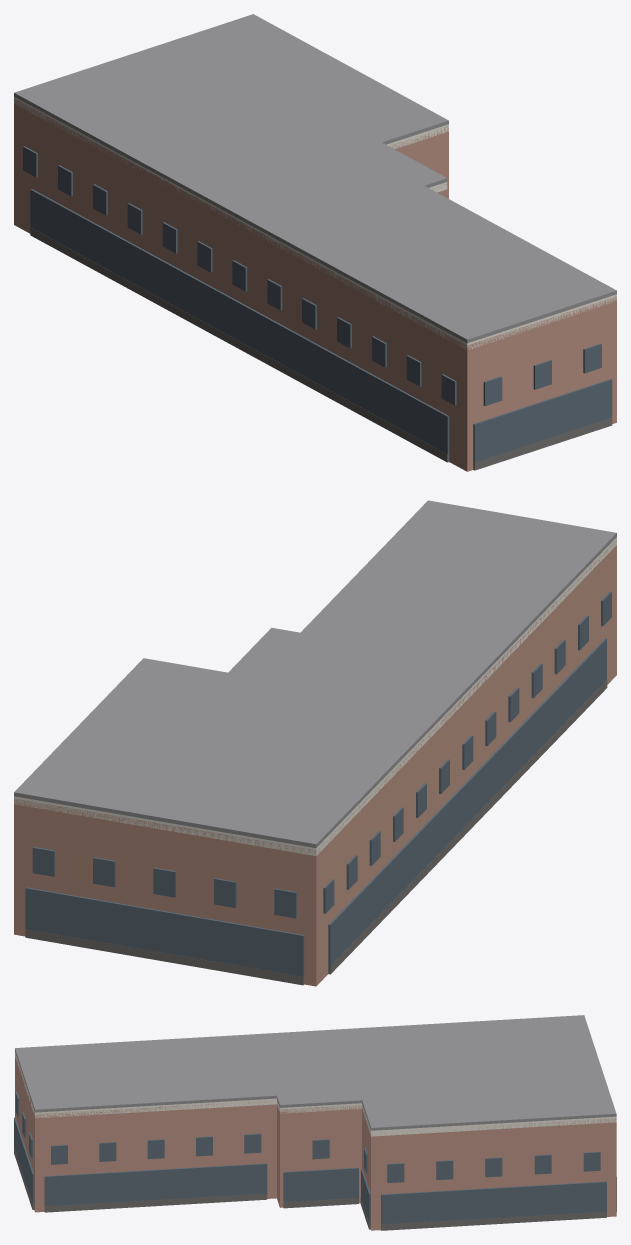
The model's file is s55_gis_248218_820836.glb.
3 renders of one model, top to bottom at view 1: azimuth 30°, elevation 25°; view 2: azimuth 150°, elevation 25°; view 3: azimuth 270°, elevation 25°, orthographic. The views are drawn at different scales.
Parts seen in each view (by area): view 1: roofcap, mass, store_6, store_7, cornice, bulk_6, bulk_7; view 2: roofcap, mass, store_6, store_5, cornice, bulk_6, bulk_5; view 3: roofcap, mass, store_4, store_0, cornice, store_2, bulk_4, bulk_0, store_7, bulk_2, win_4_0_3, win_0_0_1 (+10 smaller).
Part boxes in pixels (x1=…): roofcap: x1=14, y1=14, x2=616, y2=343; mass: x1=14, y1=98, x2=616, y2=471; store_6: x1=30, y1=189, x2=449, y2=454; store_7: x1=473, y1=379, x2=612, y2=465; cornice: x1=14, y1=96, x2=616, y2=350; bulk_6: x1=30, y1=227, x2=449, y2=462; bulk_7: x1=473, y1=417, x2=612, y2=470; roofcap: x1=14, y1=500, x2=616, y2=847; mass: x1=14, y1=539, x2=616, y2=986; store_6: x1=328, y1=638, x2=606, y2=970; store_5: x1=25, y1=887, x2=304, y2=981; cornice: x1=14, y1=537, x2=616, y2=855; bulk_6: x1=328, y1=679, x2=607, y2=974; bulk_5: x1=25, y1=929, x2=304, y2=985; roofcap: x1=15, y1=1015, x2=616, y2=1130; mass: x1=15, y1=1057, x2=616, y2=1230; store_4: x1=381, y1=1181, x2=606, y2=1224; store_0: x1=44, y1=1163, x2=267, y2=1206; cornice: x1=15, y1=1052, x2=616, y2=1136; store_2: x1=283, y1=1167, x2=358, y2=1202; bulk_4: x1=381, y1=1211, x2=606, y2=1230; bulk_0: x1=44, y1=1193, x2=267, y2=1212; store_7: x1=14, y1=1117, x2=34, y2=1203; bulk_2: x1=283, y1=1198, x2=358, y2=1208; win_4_0_3: x1=534, y1=1154, x2=551, y2=1174; win_0_0_1: x1=99, y1=1142, x2=116, y2=1161.
Bounding box in the file's own units: 19.71 × 8.35 × 44.43.
